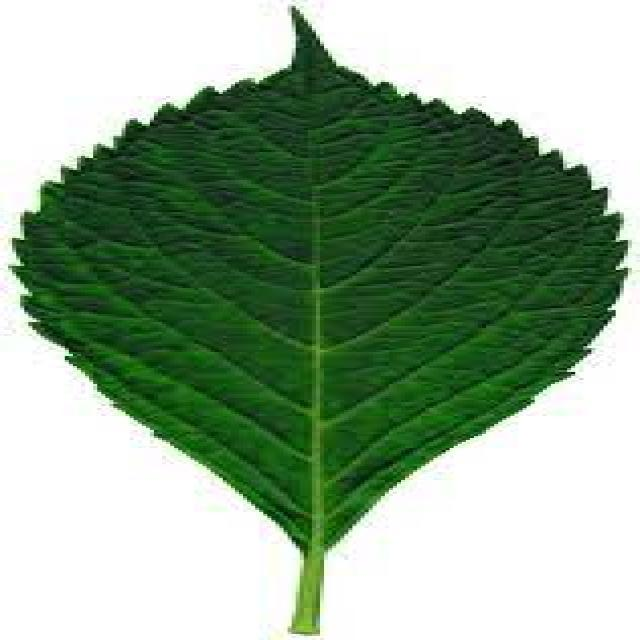leaf: (7, 4, 630, 634)
